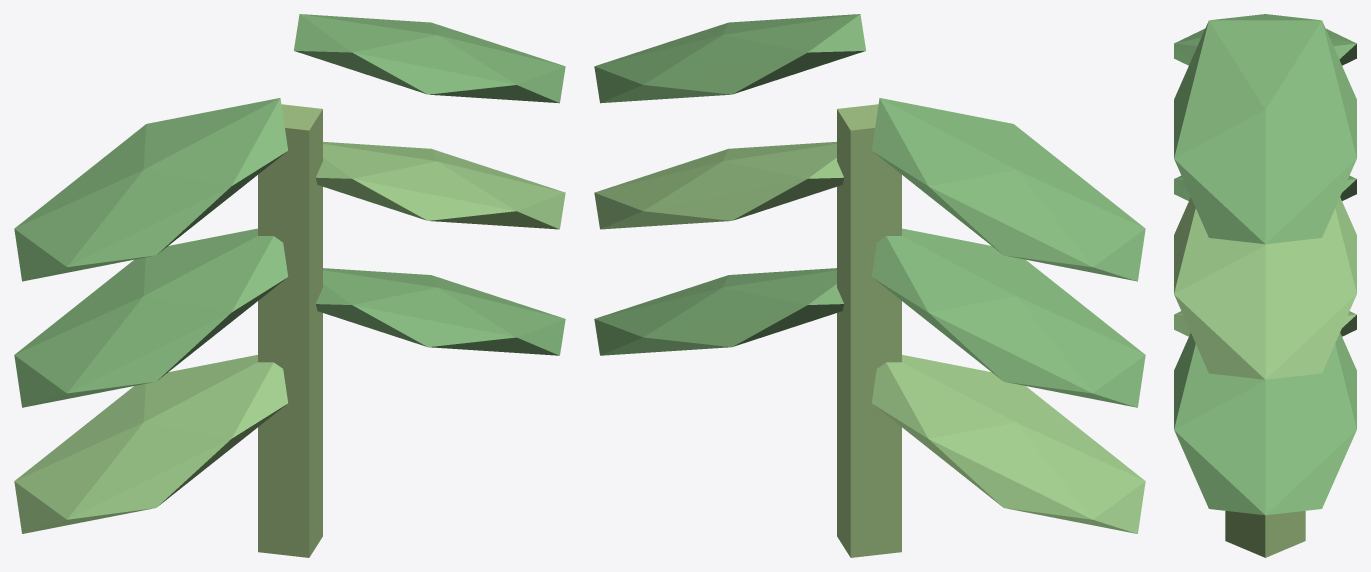
The model's file is fern.glb.
3 renders of one model, left to right at view 1: azimuth 30°, elevation 25°; view 2: azimuth 150°, elevation 25°; view 3: azimuth 270°, elevation 25°, orthographic. The views are drawn at different scales.
Visible parts, largest first — view 1: frond_4, frond_0, frond_2, stem.002, frond_5, frond_3, frond_1; view 2: frond_4, frond_0, frond_2, stem.002, frond_5, frond_3, frond_1; view 3: frond_5, frond_1, frond_3, stem.002, frond_4, frond_2, frond_0.
Boxes of the visible parts, <box> form: frond_4: <box>14,98,288,281</box>; frond_0: <box>14,355,287,533</box>; frond_2: <box>14,228,288,407</box>; stem.002: <box>258,104,322,557</box>; frond_5: <box>293,14,565,103</box>; frond_3: <box>316,141,565,229</box>; frond_1: <box>316,268,565,355</box>; frond_4: <box>871,98,1145,281</box>; frond_0: <box>872,355,1145,533</box>; frond_2: <box>871,228,1145,407</box>; stem.002: <box>837,104,901,557</box>; frond_5: <box>594,14,866,103</box>; frond_3: <box>594,141,843,229</box>; frond_1: <box>594,268,843,355</box>; frond_5: <box>1174,14,1356,244</box>; frond_1: <box>1174,332,1356,515</box>; frond_3: <box>1174,197,1356,379</box>; stem.002: <box>1225,511,1305,557</box>; frond_4: <box>1174,28,1356,65</box>; frond_2: <box>1174,175,1356,200</box>; frond_0: <box>1174,311,1356,336</box>.
Bounding box in the file's own units: 0.5857 × 0.5172 × 0.1591.
